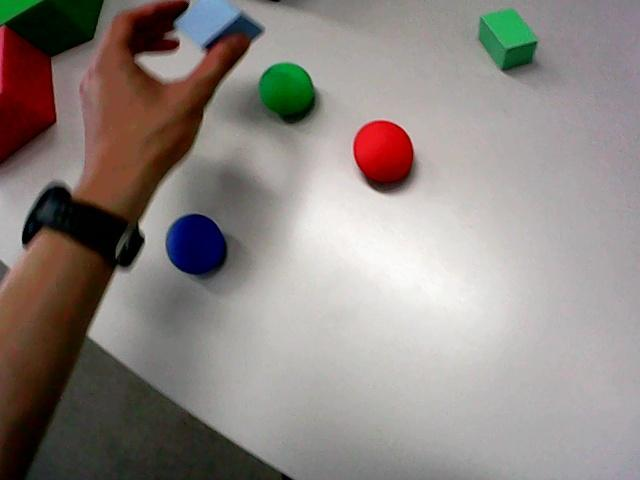blue_block: (175, 0, 263, 48)
red_block: (0, 26, 55, 162)
